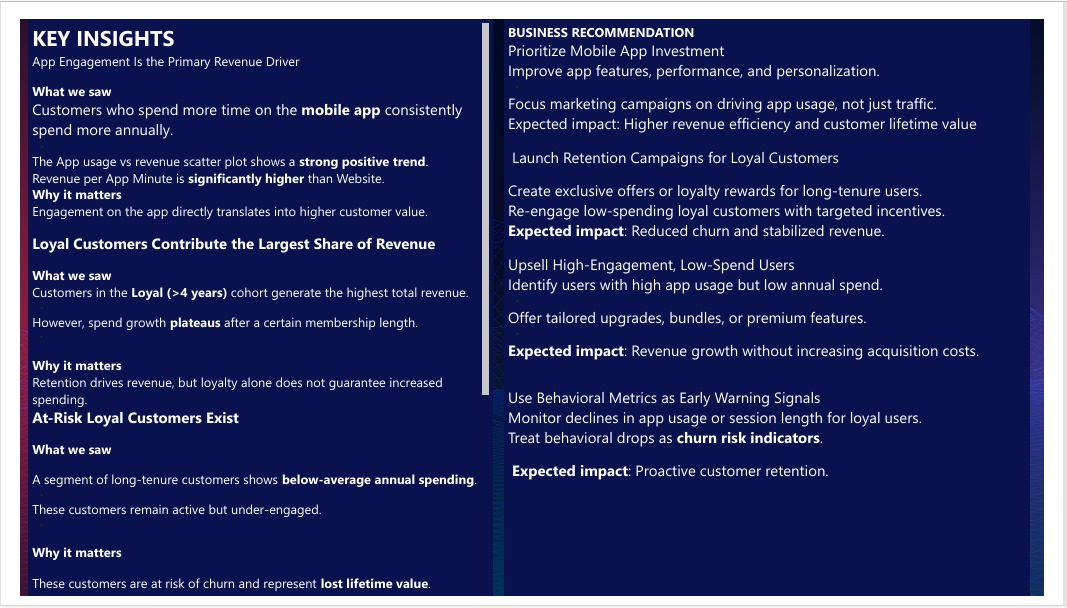

The dashboard page shown, as its layout file describes it:
{"tool":"powerbi","page":{"name":"INSIGHTS & RECOMMENDATIONS ","canvas":[1280,720],"ordinal":3},"visuals":[{"type":"textbox","box":[10.1,0,581.2,720.6],"z":0},{"type":"textbox","box":[604.7,0,656.8,720.6],"z":1}]}

Visuals, with their boxes in screenshot pixels (x1, y1, x2, y2), scaled from the page's 1280x720 canvas onto the 1067x608 screenshot:
textbox: (left=8, top=0, right=493, bottom=607)
textbox: (left=504, top=0, right=1052, bottom=607)
